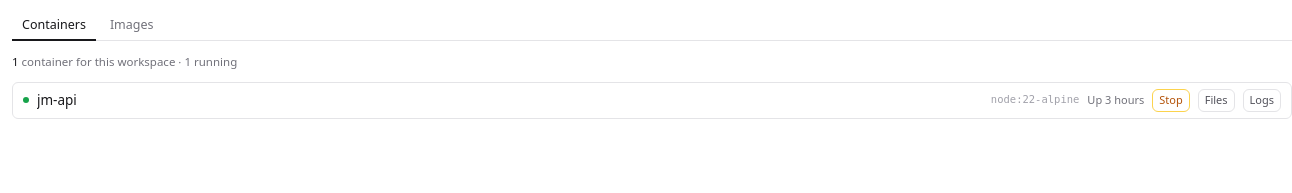
Test: AC-6 — a click asks, it does not act › pressing Stop renders a confirmation and issues nothing
The image size is (1292, 193).
Click the button with test id "docker-act-jm-api".
click(1171, 100)  # box [1152,89,1190,112]
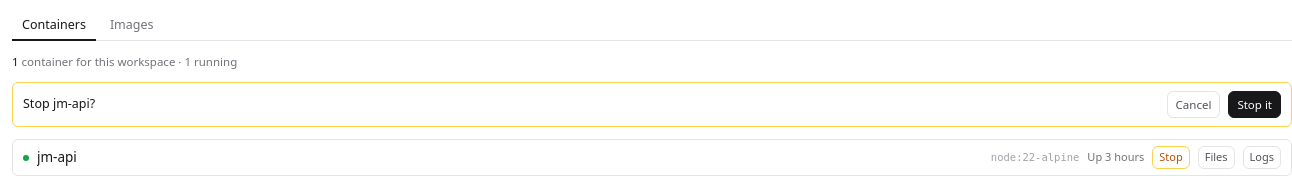
Expected: the element with test id "docker-confirm" shows "jm-api", [53,95,90,112]
Expected: the element with test id "docker-confirm" shows "Stop", [23,95,50,112]
